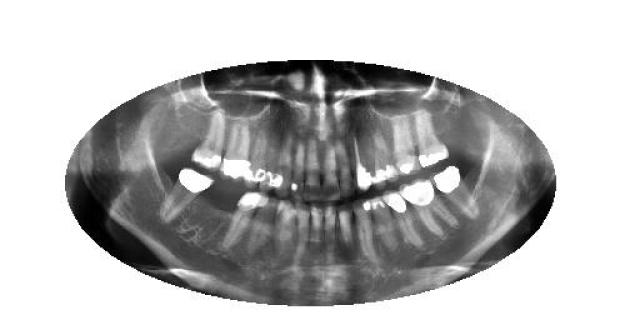Fillings: (400, 178, 460, 238), (159, 168, 215, 224), (384, 190, 425, 249), (222, 190, 262, 250), (435, 168, 480, 220), (192, 110, 226, 171), (416, 109, 450, 168), (219, 120, 251, 181), (392, 114, 422, 175), (354, 198, 375, 258)
Implant: (352, 134, 372, 191)
